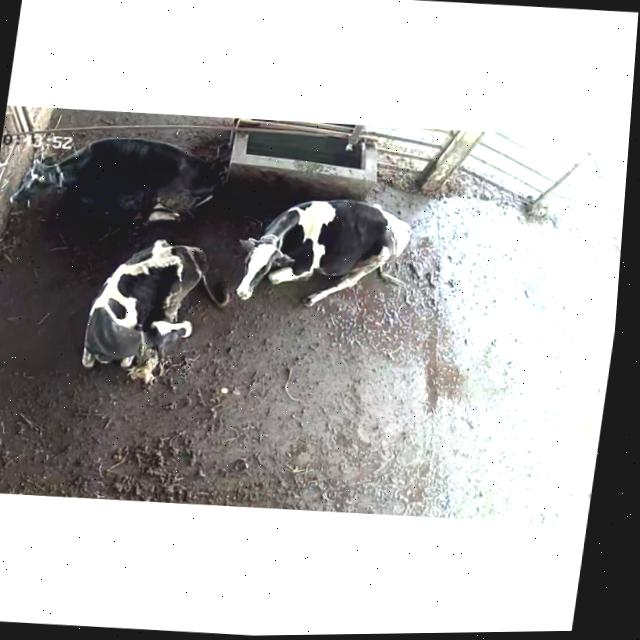lay: (224, 183, 433, 331), (70, 231, 240, 396), (3, 124, 234, 239)
